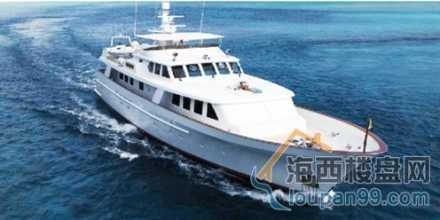yacht: (98, 4, 388, 183)
